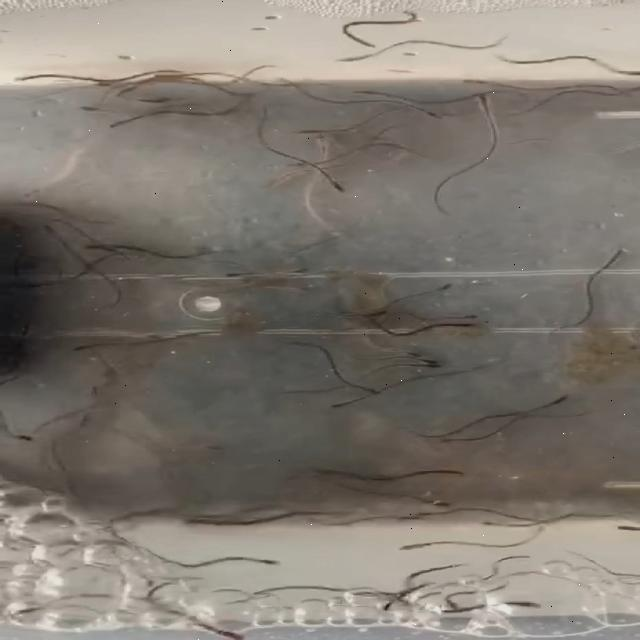active_glass_eel: (498, 594, 547, 614), (244, 550, 290, 568), (7, 601, 47, 618), (404, 503, 448, 518), (422, 280, 460, 296), (602, 246, 632, 266), (476, 515, 516, 530), (386, 511, 426, 525), (330, 54, 374, 66), (214, 625, 249, 640), (182, 517, 223, 529), (545, 392, 575, 408), (432, 464, 472, 476), (148, 96, 186, 108), (452, 322, 490, 334), (394, 542, 432, 554), (328, 178, 354, 195), (347, 384, 381, 396), (294, 128, 334, 138), (461, 74, 494, 86), (106, 116, 134, 130), (77, 102, 109, 114), (348, 87, 386, 97), (1, 428, 30, 441), (281, 264, 307, 278), (440, 598, 466, 612), (422, 110, 452, 122), (74, 415, 98, 430), (456, 310, 481, 324), (264, 176, 284, 193), (310, 134, 336, 147), (422, 496, 449, 508), (146, 70, 178, 80), (81, 386, 101, 402), (394, 348, 429, 357), (415, 362, 441, 374), (412, 354, 442, 364), (72, 344, 102, 354), (471, 94, 491, 108), (434, 436, 462, 446), (613, 68, 639, 78), (15, 73, 41, 83), (614, 524, 640, 534), (85, 241, 105, 253), (90, 79, 114, 88), (38, 226, 59, 236), (223, 270, 243, 280), (326, 400, 346, 410), (374, 602, 390, 614), (287, 160, 308, 168)
